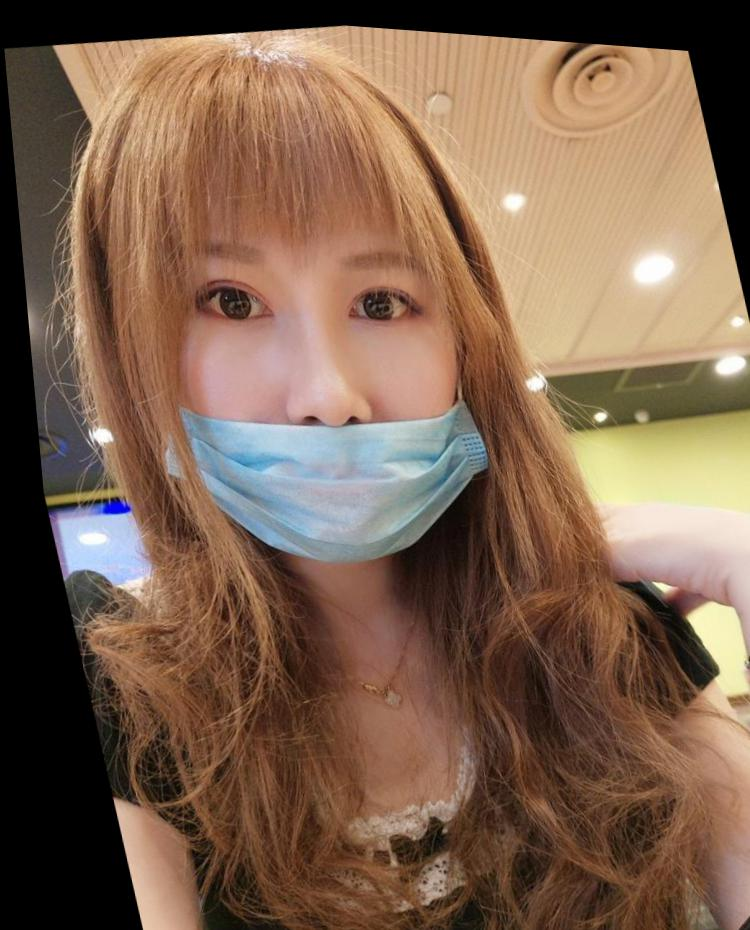WRONG: (95, 145, 509, 595)
